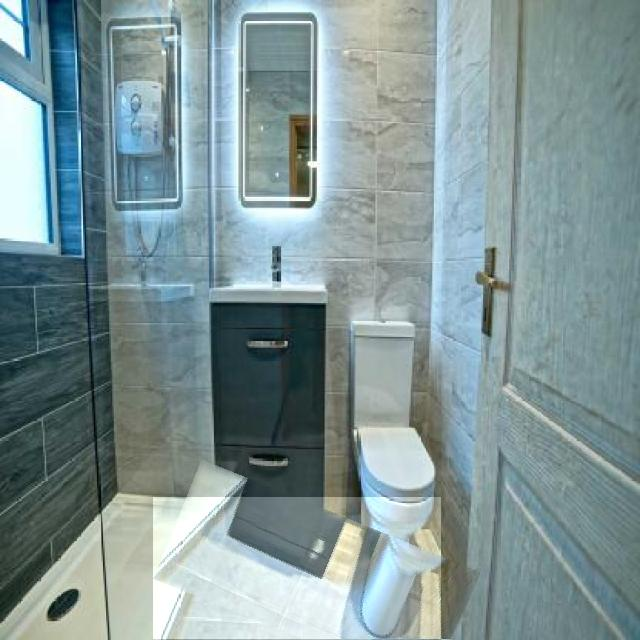floor: (153, 497, 441, 640)
